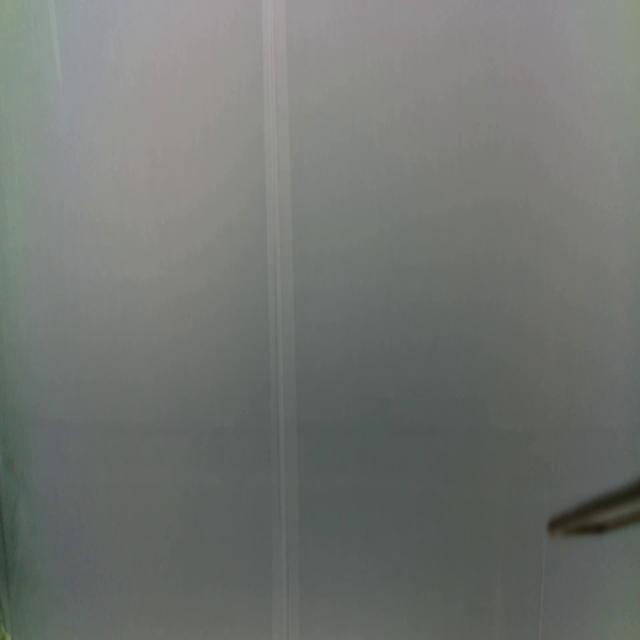color bleeding: (18, 406, 628, 461)
crease: (263, 0, 300, 640), (536, 544, 547, 640)
